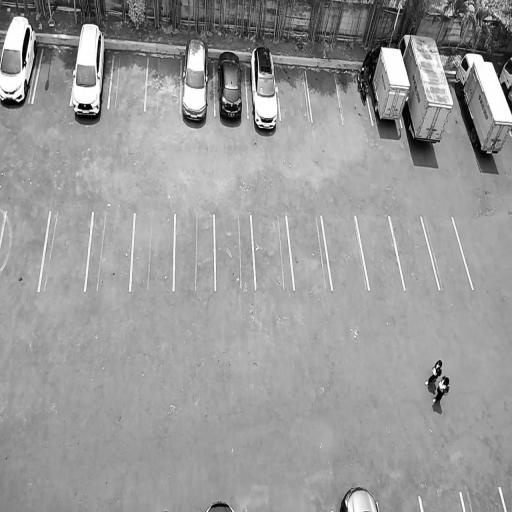Car: (448, 45, 512, 166), (396, 29, 455, 146), (364, 36, 413, 126), (67, 19, 109, 124), (0, 9, 42, 107), (248, 43, 280, 134), (181, 37, 209, 124), (216, 46, 245, 124), (337, 488, 379, 512), (202, 498, 236, 512)
Space Available: (39, 208, 92, 292), (0, 208, 50, 293), (85, 211, 134, 291), (422, 216, 473, 289), (356, 216, 405, 291), (390, 216, 439, 289), (130, 213, 174, 292), (287, 214, 332, 289), (322, 215, 367, 289), (251, 216, 293, 290), (174, 215, 214, 290), (214, 216, 254, 289), (33, 43, 77, 106), (109, 50, 148, 109), (306, 65, 343, 122), (145, 55, 181, 112), (277, 63, 310, 123), (462, 486, 505, 512), (420, 493, 465, 512), (376, 495, 423, 512)
